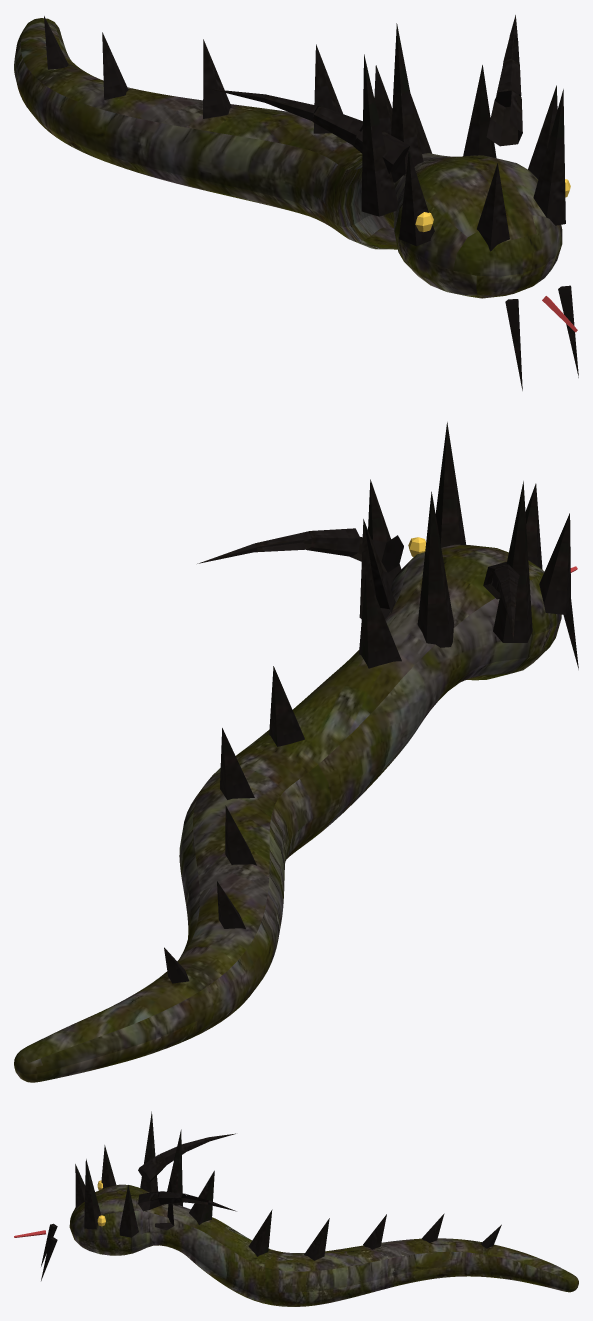
Rendered from boss_06.glb.
3 renders of one model, top to bottom at view 1: azimuth 30°, elevation 25°; view 2: azimuth 150°, elevation 25°; view 3: azimuth 270°, elevation 25°, orthographic. The views are drawn at different scales.
Visible parts, largest first — view 1: boss_06; view 2: boss_06; view 3: boss_06.
Part boxes in pixels (bbox=[...]): boss_06: bbox=[14, 15, 578, 390]; boss_06: bbox=[14, 422, 578, 1082]; boss_06: bbox=[14, 1111, 578, 1306].
Size of the model in its own units: 1.91 by 1.83 by 5.82.
5 materials, 5 textured.
